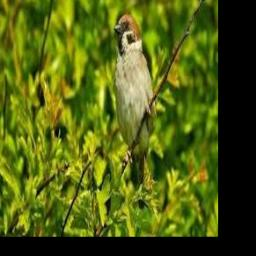Sparrow: (113, 14, 155, 209)
